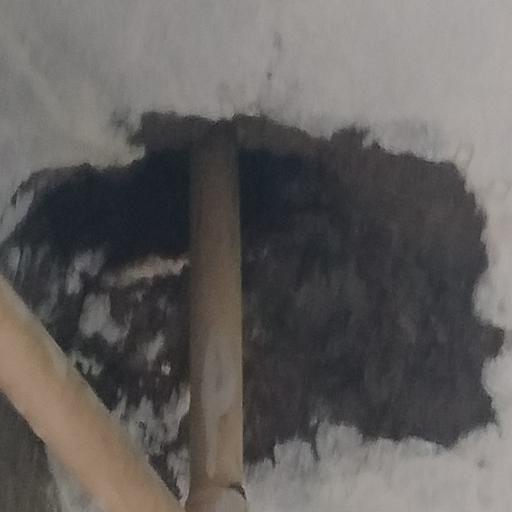spalling: (25, 64, 512, 479)
